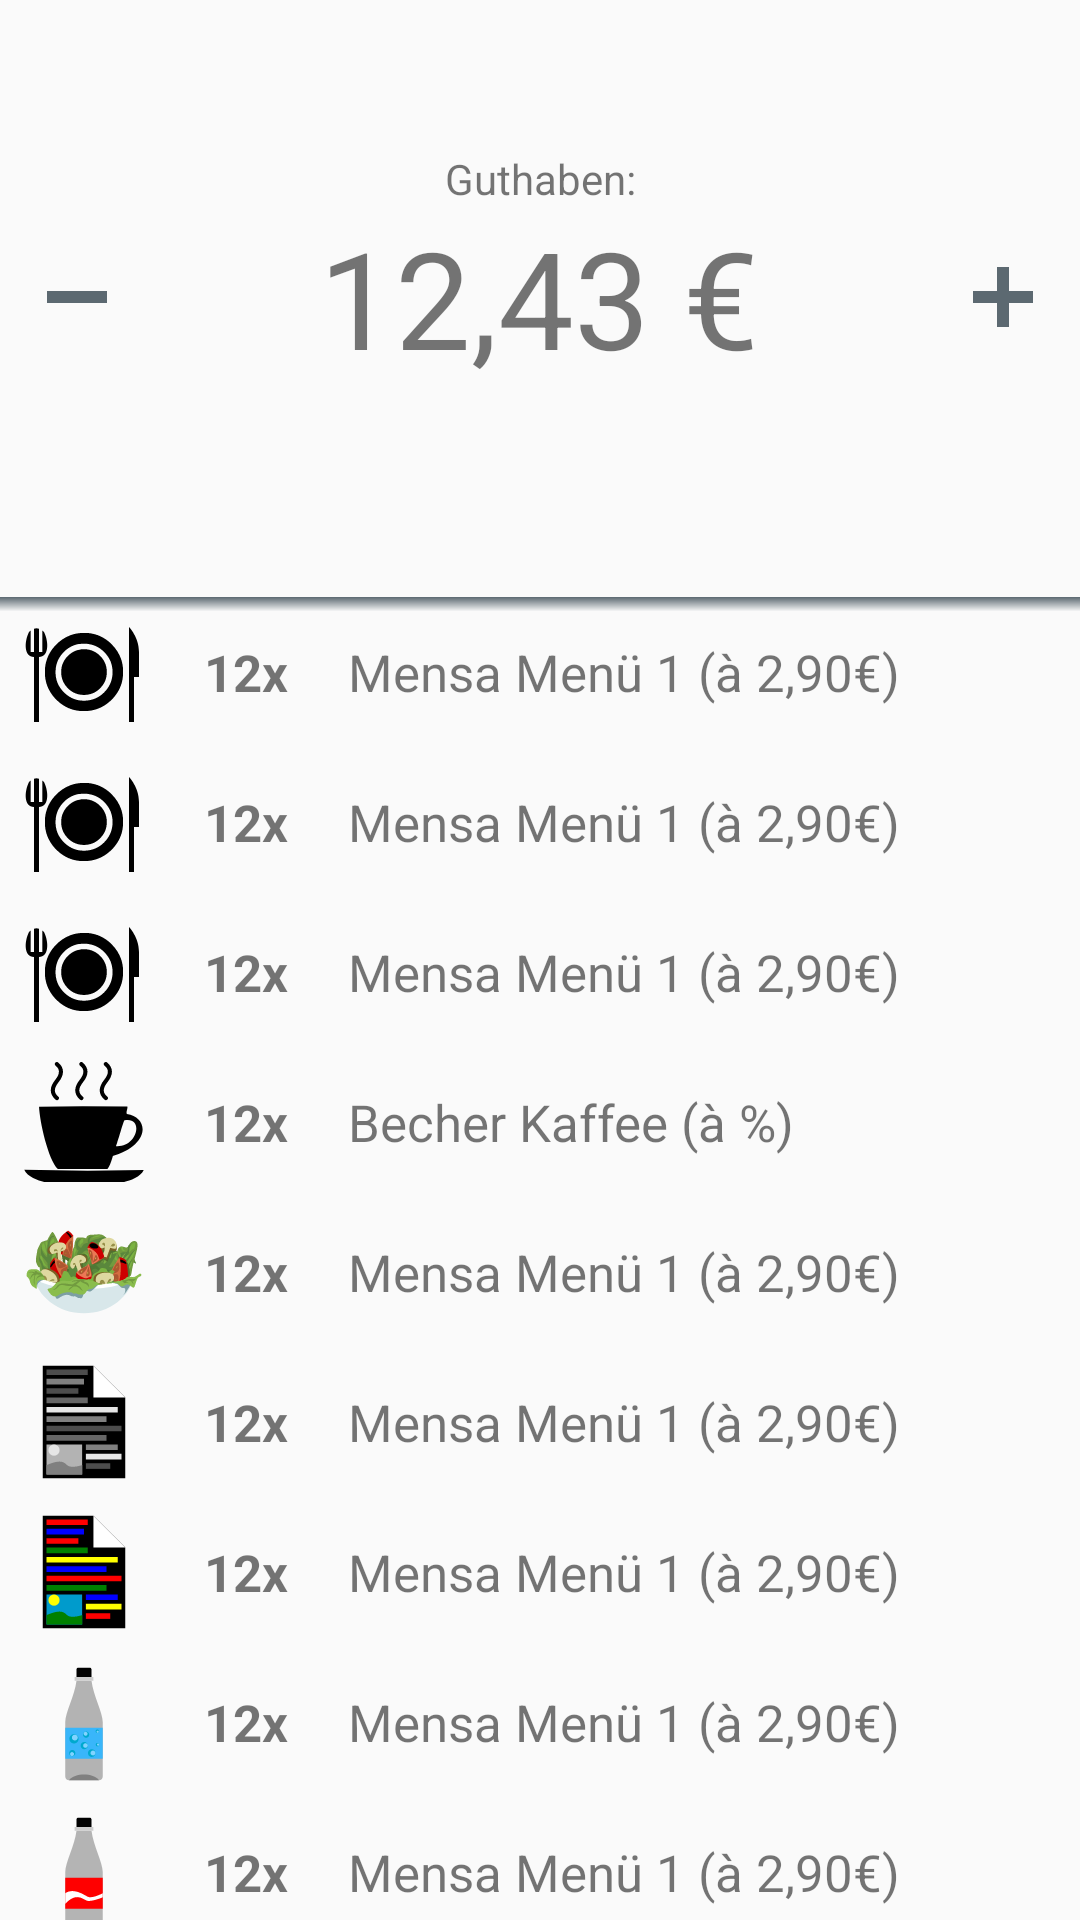

Icon bounding boxes for this 1080 x 1920 phone screenshot, format box(x1, y1, x2, y2):
coffee: box(24, 1062, 144, 1182)
cola: box(65, 1817, 103, 1920)
farbkopie: box(42, 1515, 126, 1629)
mensa: box(25, 627, 139, 722), box(25, 777, 139, 872), box(25, 927, 139, 1022)
plus: box(973, 267, 1033, 327)
salad: box(26, 1230, 142, 1313)
swkopie: box(42, 1365, 126, 1479)
water: box(65, 1667, 103, 1781)
